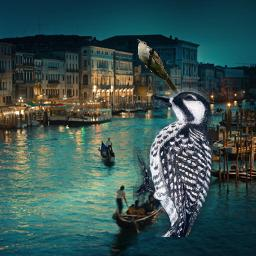Cuckoo: (137, 39, 180, 95)
Woodpecker: (133, 86, 217, 237)
